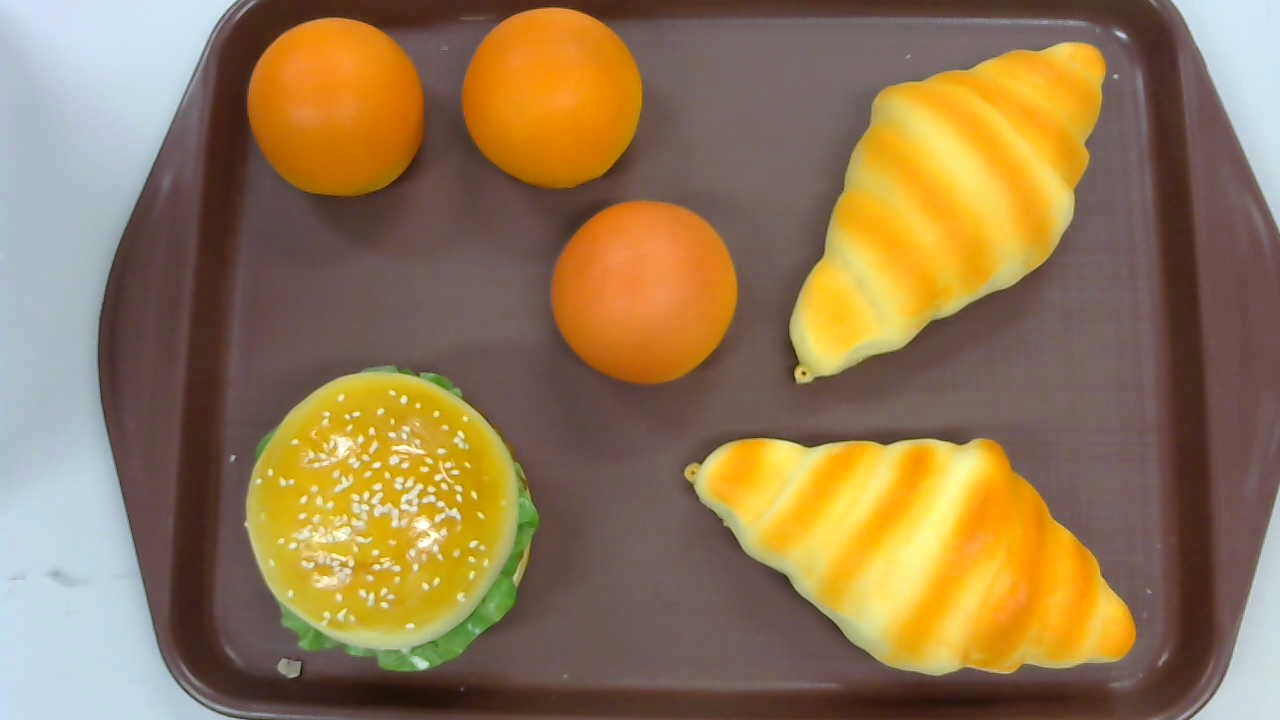bun: (549, 200, 740, 387), (461, 5, 643, 187), (248, 18, 425, 197)
croissant: (787, 41, 1107, 384), (683, 436, 1137, 676)
hamburger: (244, 365, 541, 673)
